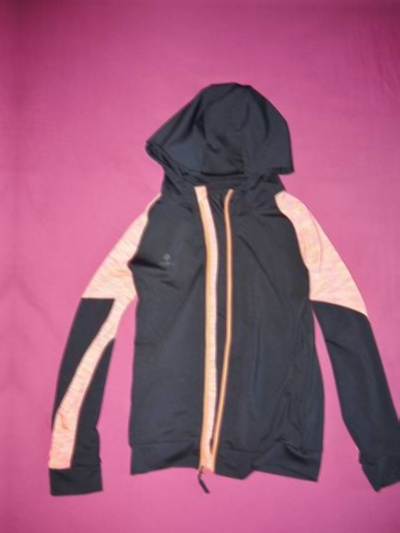Hoodie: (21, 85, 400, 514), (0, 75, 6, 504)
